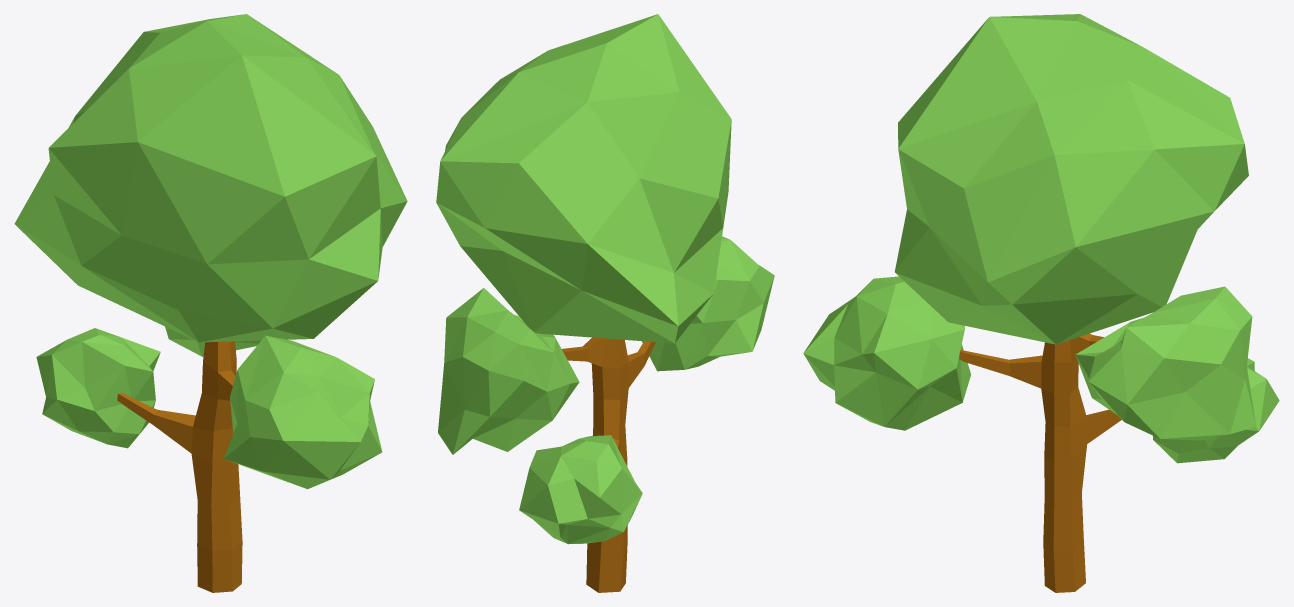
Rendered from tree_1.fbx.
3 renders of one model, left to right at view 1: azimuth 30°, elevation 25°; view 2: azimuth 150°, elevation 25°; view 3: azimuth 270°, elevation 25°, orthographic. The views are drawn at different scales.
Parts seen in each view (by area): view 1: Icosphere, Icosphere.001, Cube, Icosphere.002, Icosphere.003; view 2: Icosphere, Icosphere.003, Icosphere.002, Icosphere.001, Cube; view 3: Icosphere, Icosphere.003, Icosphere.001, Cube, Icosphere.002.
Part boxes in pixels (box(x1,y1,x2,y2)): Icosphere: box(14, 14, 407, 342); Icosphere.001: box(223, 335, 382, 489); Cube: box(117, 341, 242, 592); Icosphere.002: box(36, 328, 160, 448); Icosphere.003: box(165, 326, 260, 356); Icosphere: box(436, 14, 731, 343); Icosphere.003: box(438, 288, 579, 454); Icosphere.002: box(519, 435, 642, 544); Icosphere.001: box(642, 236, 774, 371); Cube: box(562, 337, 655, 592); Icosphere: box(894, 14, 1248, 344); Icosphere.003: box(1075, 286, 1256, 440); Icosphere.001: box(803, 276, 970, 430); Cube: box(959, 333, 1121, 592); Icosphere.002: box(1153, 358, 1279, 463).
Size of the model in its own units: 841 by 1493 by 1151.
